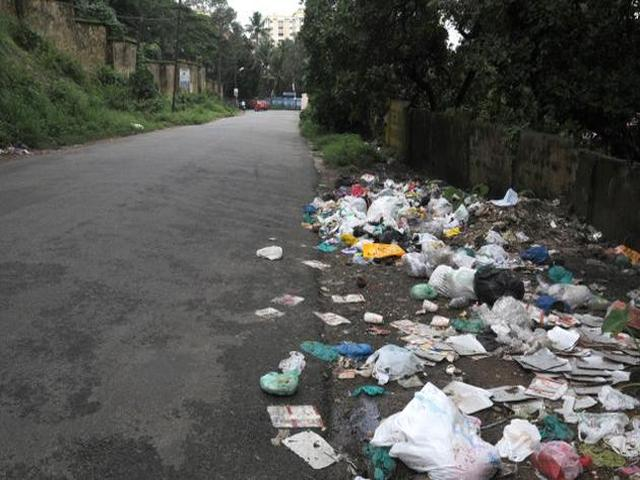garbage: (467, 228, 628, 354), (336, 228, 522, 260)
